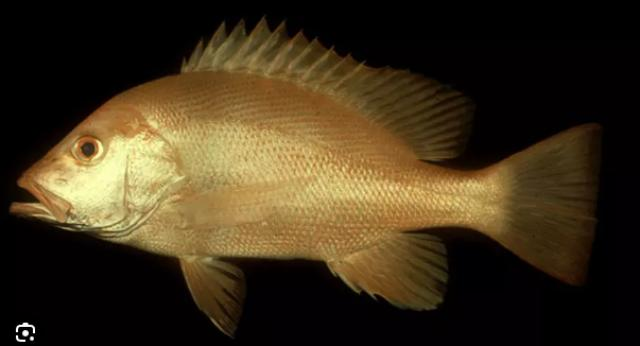Mulut: (5, 162, 57, 232)
Sirip Anal: (324, 226, 454, 320)
Sirip Dada: (174, 170, 326, 236)
Sirip Ekor: (500, 115, 610, 291)
Sirip Perut: (172, 245, 255, 343)
Sirip Punggung: (180, 11, 470, 164)
